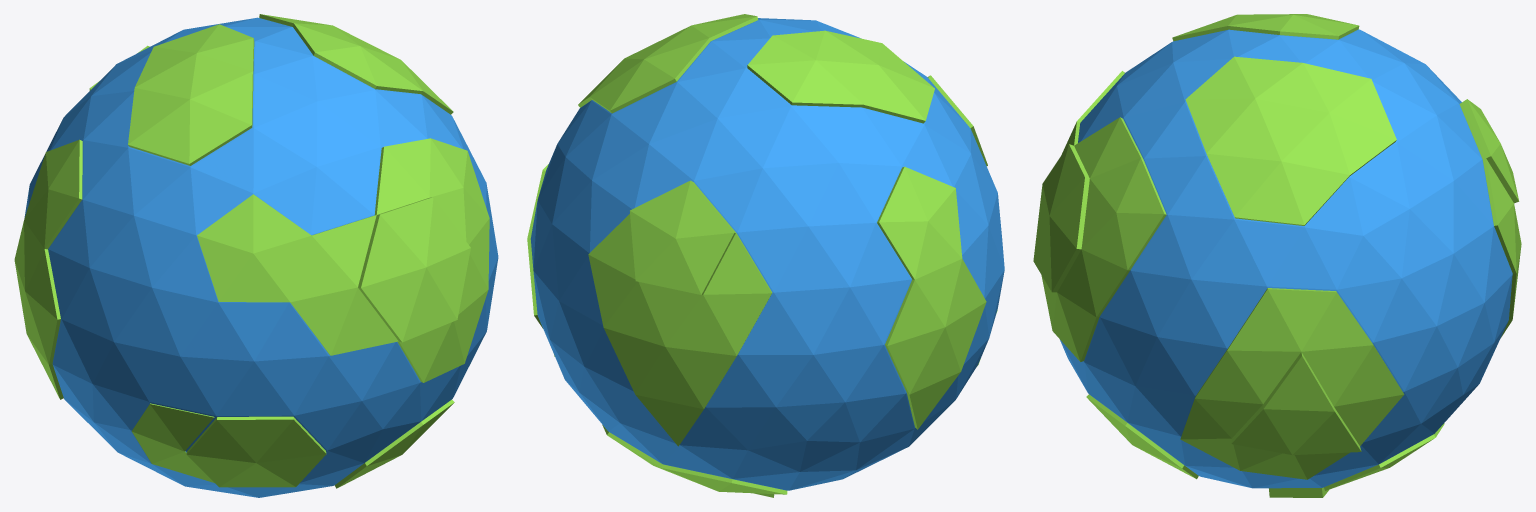
File: myModel.glb
3 renders of one model, left to right at view 1: azimuth 30°, elevation 25°; view 2: azimuth 150°, elevation 25°; view 3: azimuth 270°, elevation 25°, orthographic.
Parts seen in each view (by area): view 1: Icosphere.001, Icosphere; view 2: Icosphere.001, Icosphere; view 3: Icosphere.001, Icosphere.
Part boxes in pixels (left/top/right/bottom): Icosphere.001: left=24, top=17, right=498, bottom=497; Icosphere: left=14, top=14, right=489, bottom=488; Icosphere.001: left=530, top=18, right=1004, bottom=490; Icosphere: left=527, top=14, right=997, bottom=497; Icosphere.001: left=1060, top=29, right=1512, bottom=488; Icosphere: left=1033, top=14, right=1521, bottom=497.
Size of the model in its own units: 2.14 by 2.15 by 2.14.
